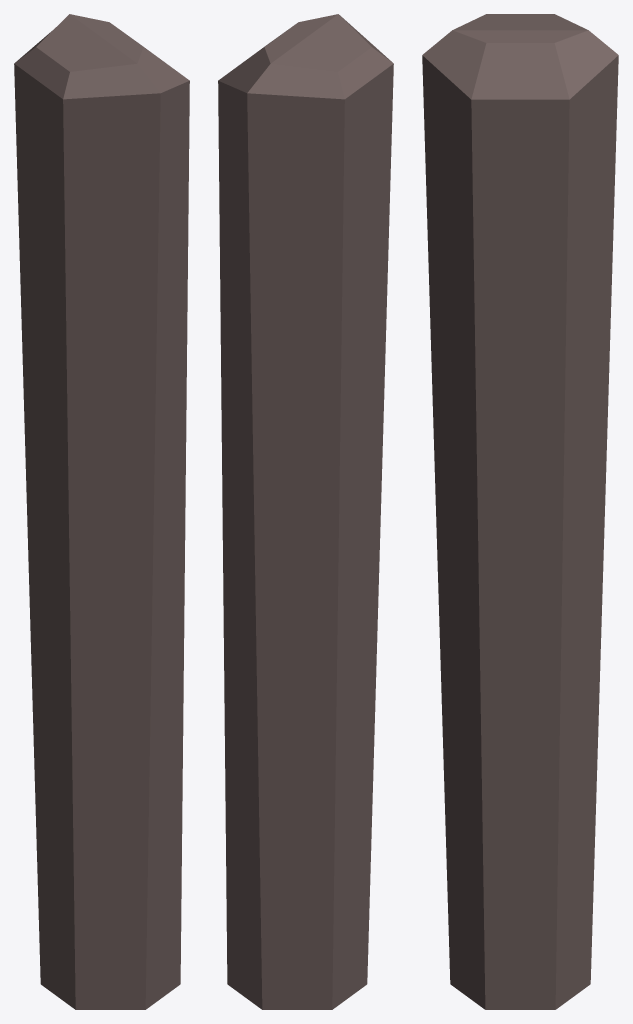
Rendered from fence7.fbx.
3 views of the same model, side by side, from view 1: azimuth 30°, elevation 25°; view 2: azimuth 150°, elevation 25°; view 3: azimuth 270°, elevation 25° (orthographic).
Parts seen in each view (by area): view 1: Props_fences.006; view 2: Props_fences.006; view 3: Props_fences.006.
Part boxes in pixels (bbox=[...]): Props_fences.006: bbox=[14, 14, 189, 1009]; Props_fences.006: bbox=[218, 14, 393, 1009]; Props_fences.006: bbox=[422, 14, 618, 1009].
Bounding box in the file's own units: 16.18 × 116 × 21.66.
